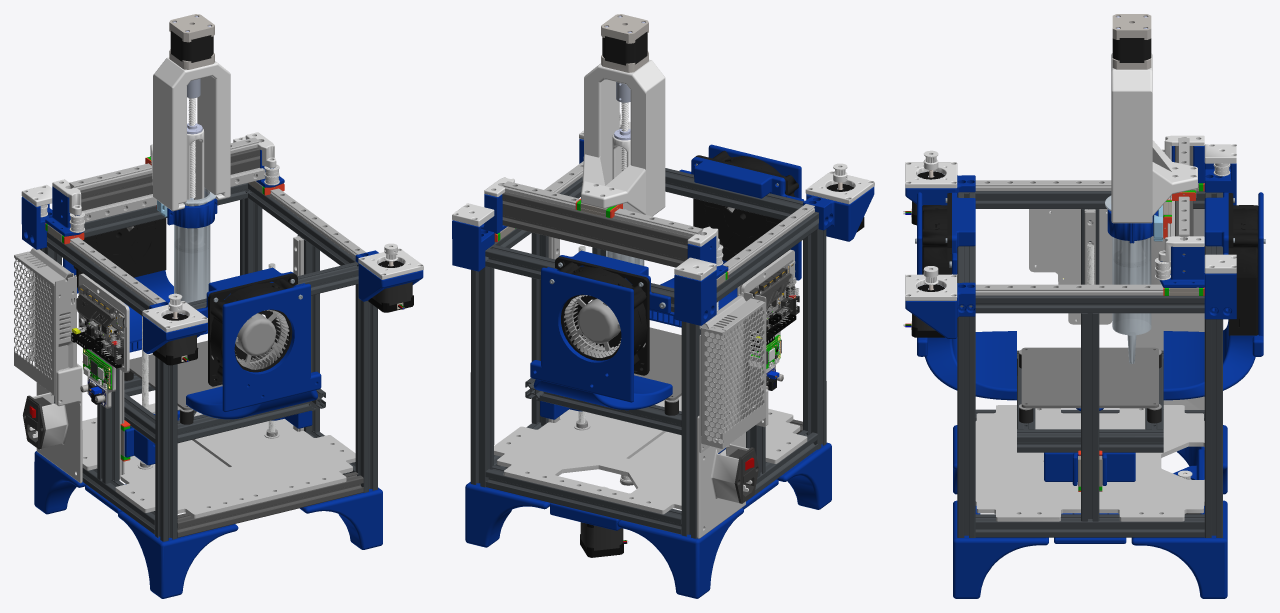
Rendered from ice3dp.glb.
3 renders of one model, left to right at view 1: azimuth 30°, elevation 25°; view 2: azimuth 150°, elevation 25°; view 3: azimuth 270°, elevation 25°, orthographic. The views are drawn at different scales.
Parts seen in each view (by area): view 1: 80/20 20 Series (mm) 2020 (0.82 ft) (×2), Part 79, Part 1, Part 23, LRS-150, Part 2-Mirrored, MGNR12_xxx_MGN12_250, 001 korpus strzykawki 150ml, Part 3, Part 71, Inlet Module Plug Fuse Switch Male Power Socket 10A 250V 3 P, id217 (+10 smaller); view 2: 80/20 20 Series (mm) 2020 (0.82 ft) (×2), Part 79, Part 1, Part 23, LRS-150, Part 2-Mirrored, MGNR12_xxx_MGN12_250, Part 3, Part 71, Inlet Module Plug Fuse Switch Male Power Socket 10A 250V 3 P, NEMA 17 Stepper Motor Bottom.STEP, NEMA 17 Stepper Motor Middle^NEMA 17 (+4 smaller); view 3: Part 79, 80/20 20 Series (mm) 2020 (0.82 ft) (×2), Part 1, Part 23, Part 71, Part 2-Mirrored, MGNR12_xxx_MGN12_250, 001 korpus strzykawki 150ml, NEMA 17 Stepper Motor Bottom.STEP, FUSHI F688ZZ v2, MGN12H, NEMA 17 Stepper Motor Middle^NEMA 17 (+3 smaller).
Boxes of the visible parts, x1,y1,x2,y2 form: 80/20 20 Series (mm) 2020 (0.82 ft) (×2): [40, 147, 377, 541]; Part 79: [21, 150, 423, 598]; Part 1: [32, 273, 355, 518]; Part 23: [21, 57, 423, 332]; LRS-150: [14, 248, 103, 404]; Part 2-Mirrored: [73, 218, 297, 387]; MGNR12_xxx_MGN12_250: [29, 137, 365, 478]; 001 korpus strzykawki 150ml: [174, 187, 216, 302]; Part 3: [127, 226, 289, 369]; Part 71: [129, 340, 222, 410]; Inlet Module Plug Fuse Switch Male Power Socket 10A 250V 3 P: [23, 285, 124, 449]; id217: [114, 282, 412, 364]; 80/20 20 Series (mm) 2020 (0.82 ft) (×2): [470, 168, 826, 538]; Part 79: [452, 139, 874, 598]; Part 1: [494, 249, 807, 538]; Part 23: [452, 59, 874, 280]; LRS-150: [699, 292, 773, 452]; Part 2-Mirrored: [555, 150, 798, 375]; MGNR12_xxx_MGN12_250: [502, 161, 814, 489]; Part 3: [564, 207, 734, 485]; Part 71: [634, 327, 681, 400]; Inlet Module Plug Fuse Switch Male Power Socket 10A 250V 3 P: [728, 264, 795, 503]; NEMA 17 Stepper Motor Bottom.STEP: [601, 14, 648, 72]; NEMA 17 Stepper Motor Middle^NEMA 17: [602, 32, 647, 65]; Part 79: [905, 146, 1263, 598]; 80/20 20 Series (mm) 2020 (0.82 ft) (×2): [957, 146, 1222, 537]; Part 1: [975, 209, 1204, 521]; Part 23: [905, 53, 1236, 300]; Part 71: [1021, 347, 1158, 408]; Part 2-Mirrored: [922, 193, 1258, 335]; MGNR12_xxx_MGN12_250: [975, 138, 1189, 295]; 001 korpus strzykawki 150ml: [1105, 195, 1151, 363]; NEMA 17 Stepper Motor Bottom.STEP: [1112, 14, 1151, 69]; FUSHI F688ZZ v2: [923, 150, 1230, 479]; MGN12H: [1078, 183, 1204, 491]; NEMA 17 Stepper Motor Middle^NEMA 17: [1112, 38, 1151, 62].
Size of what is drawn, in the model's own units: 0.3606 by 0.6281 by 0.3952.
